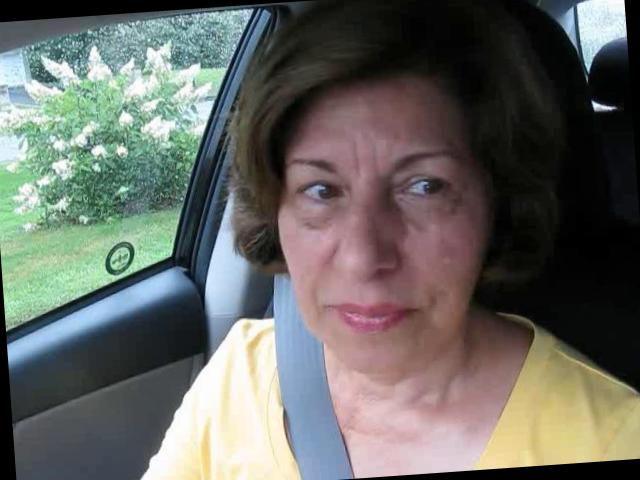eye_open: (394, 165, 461, 208), (290, 173, 348, 212)
face: (266, 108, 498, 388)
